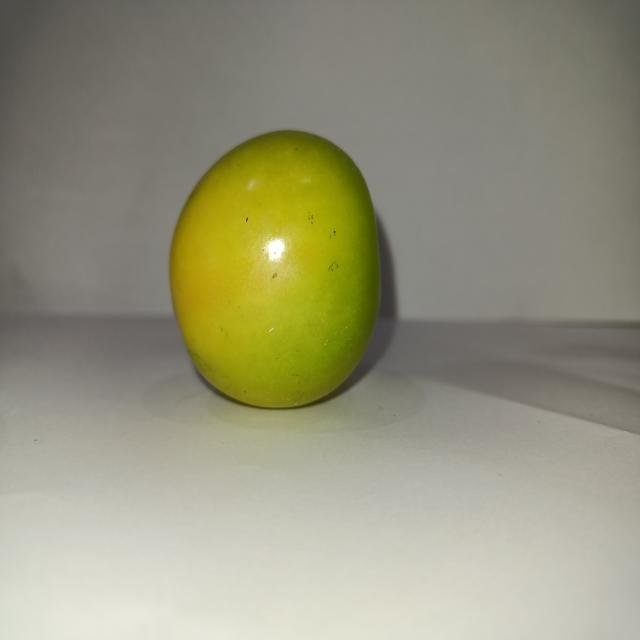Red: (168, 127, 382, 409)
